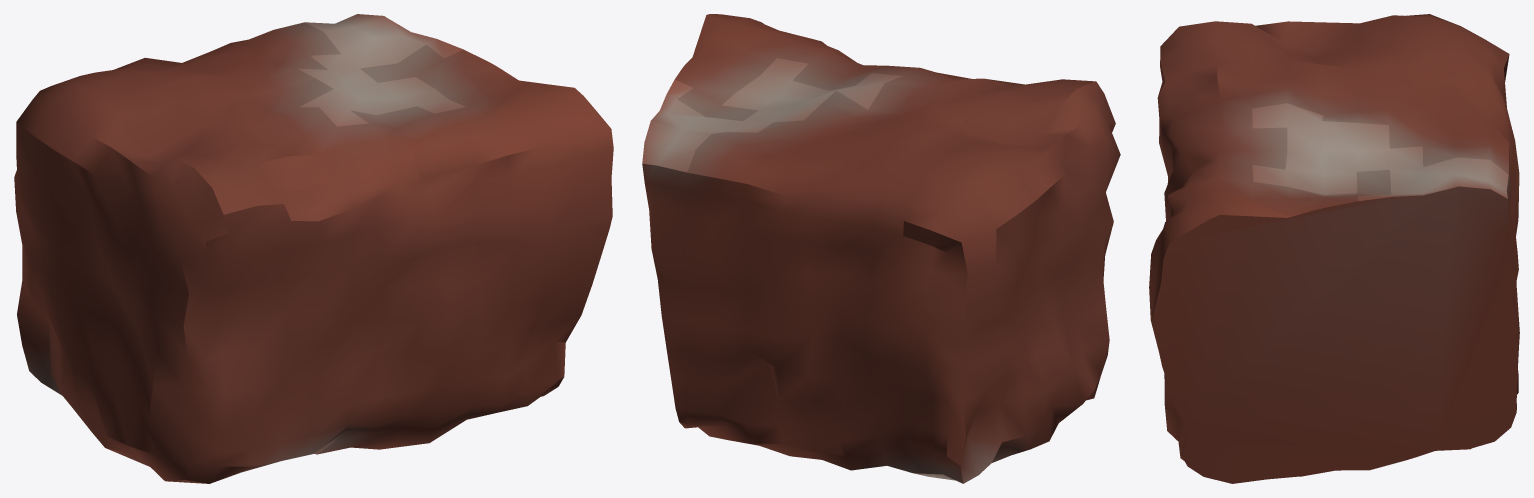
Rendered from ember_brick_chunk_b.glb.
The picture shows the model from 3 angles, left to right: view 1: azimuth 30°, elevation 25°; view 2: azimuth 150°, elevation 25°; view 3: azimuth 270°, elevation 25°; orthographic projection. The views are drawn at different scales.
Parts seen in each view (by area): view 1: ember_brick_chunk_b; view 2: ember_brick_chunk_b; view 3: ember_brick_chunk_b.
Boxes of the visible parts, x1,y1,x2,y2 form: ember_brick_chunk_b: (14, 14, 613, 483); ember_brick_chunk_b: (642, 14, 1120, 483); ember_brick_chunk_b: (1149, 14, 1519, 483).
Bounding box in the file's own units: 6.24 × 4.57 × 4.7.
